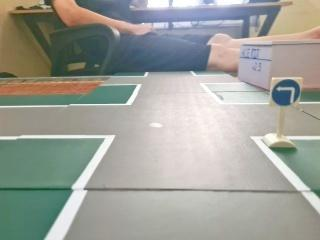left: (266, 72, 307, 112)
